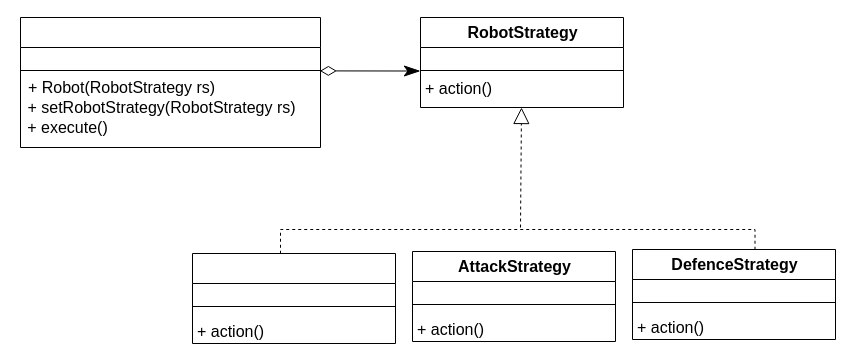
This 853x361 diagram has some shape labels left out. Each missing label, with the box of its shape:
MoveStrategy: (192, 252, 396, 284)
Robot: (20, 16, 320, 48)
